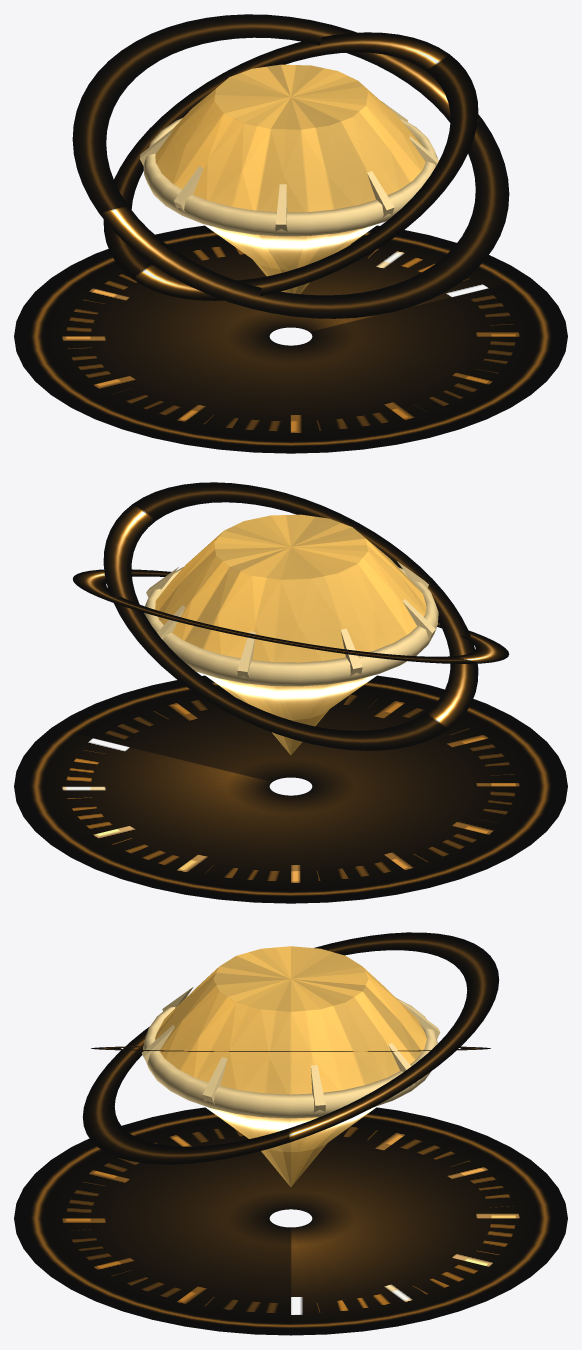
File: shard_gold_v2_2x.glb
3 renders of one model, top to bottom at view 1: azimuth 30°, elevation 25°; view 2: azimuth 150°, elevation 25°; view 3: azimuth 270°, elevation 25°, orthographic.
Parts seen in each view (by area): view 1: gem; view 2: gem; view 3: gem.
Boxes of the visible parts, left/top/right/bottom form: gem: left=14, top=14, right=567, bottom=453; gem: left=14, top=482, right=567, bottom=903; gem: left=14, top=932, right=567, bottom=1335.
Bounding box in the file's own units: 5.2 × 2.52 × 5.2.
3 materials, 1 textured.
